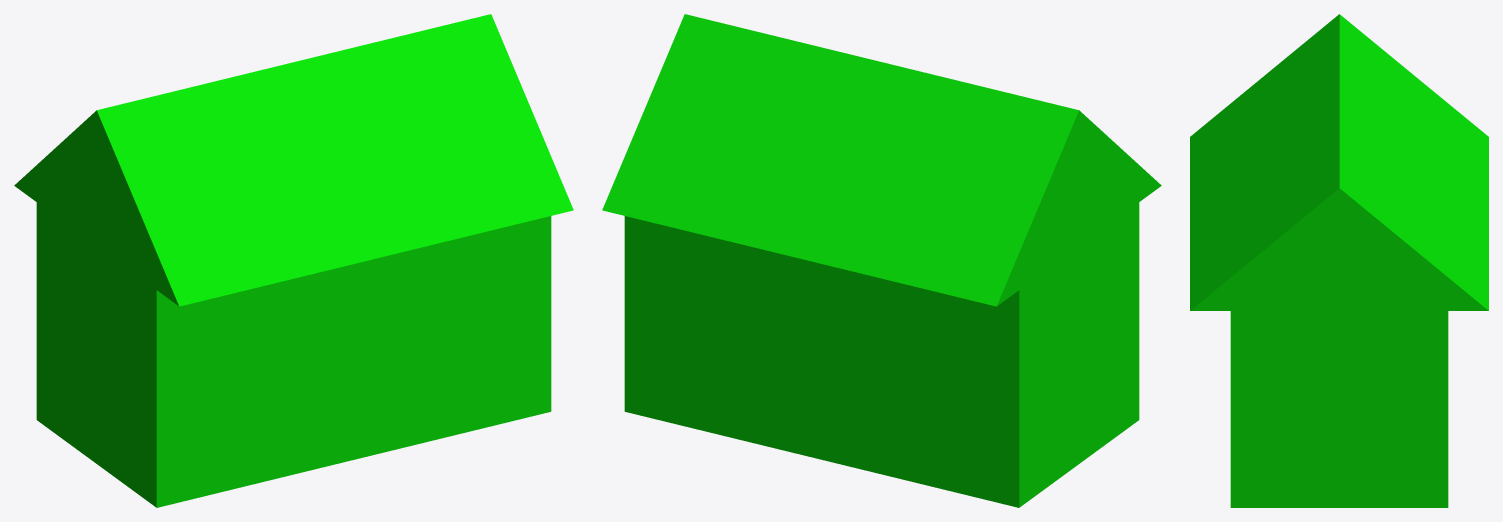
File: SiedlungGreen.glb
3 views of the same model, side by side, from view 1: azimuth 30°, elevation 25°; view 2: azimuth 150°, elevation 25°; view 3: azimuth 270°, elevation 25° (orthographic). The views are drawn at different scales.
Visible parts, largest first — view 1: Cube; view 2: Cube; view 3: Cube.
Part boxes in pixels (<box>): Cube: <box>14,14,573,507</box>; Cube: <box>602,14,1161,507</box>; Cube: <box>1190,14,1488,507</box>.
Bounding box in the file's own units: 0.6906 × 0.5917 × 0.5011.
